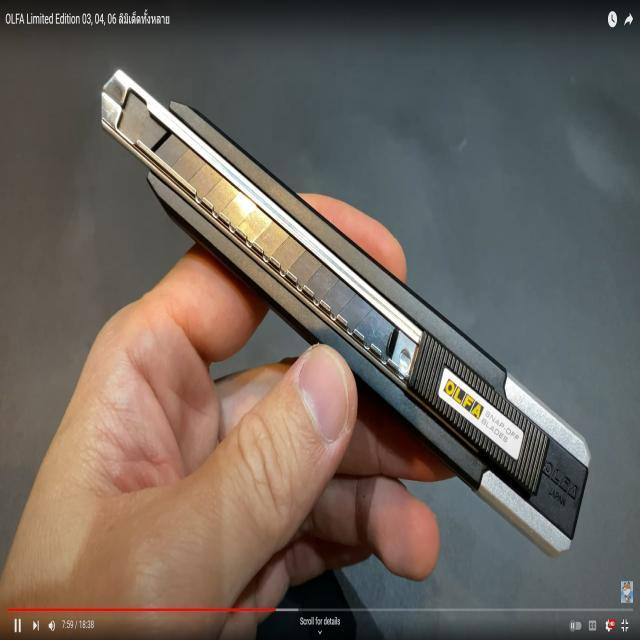cutter: (79, 45, 621, 580)
